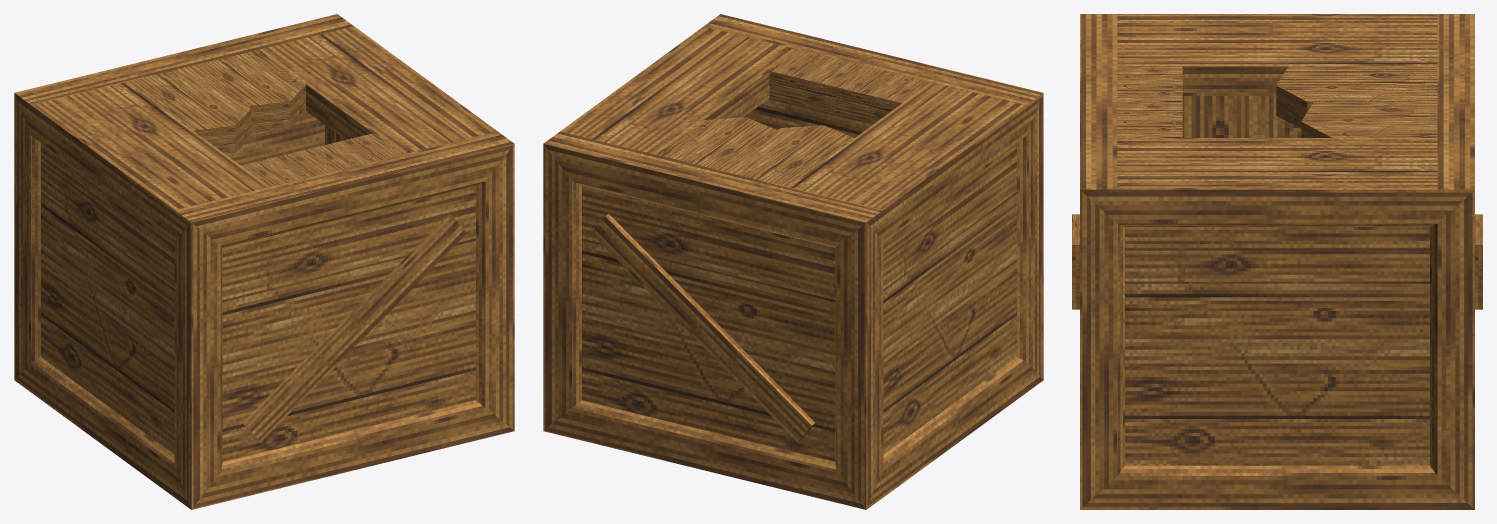
The model's file is Cassa_04_Danneggiata.obj.
The picture shows the model from 3 angles, left to right: view 1: azimuth 30°, elevation 25°; view 2: azimuth 150°, elevation 25°; view 3: azimuth 270°, elevation 25°; orthographic projection. The views are drawn at different scales.
Parts seen in each view (by area): view 1: Cassa_04_Danneggiata; view 2: Cassa_04_Danneggiata; view 3: Cassa_04_Danneggiata.
Boxes of the visible parts, x1,y1,x2,y2 form: Cassa_04_Danneggiata: (14, 14, 514, 509); Cassa_04_Danneggiata: (543, 14, 1043, 509); Cassa_04_Danneggiata: (1072, 14, 1482, 509).
Bounding box in the file's own units: 1 × 0.85 × 0.988.
1 material, 1 textured.
